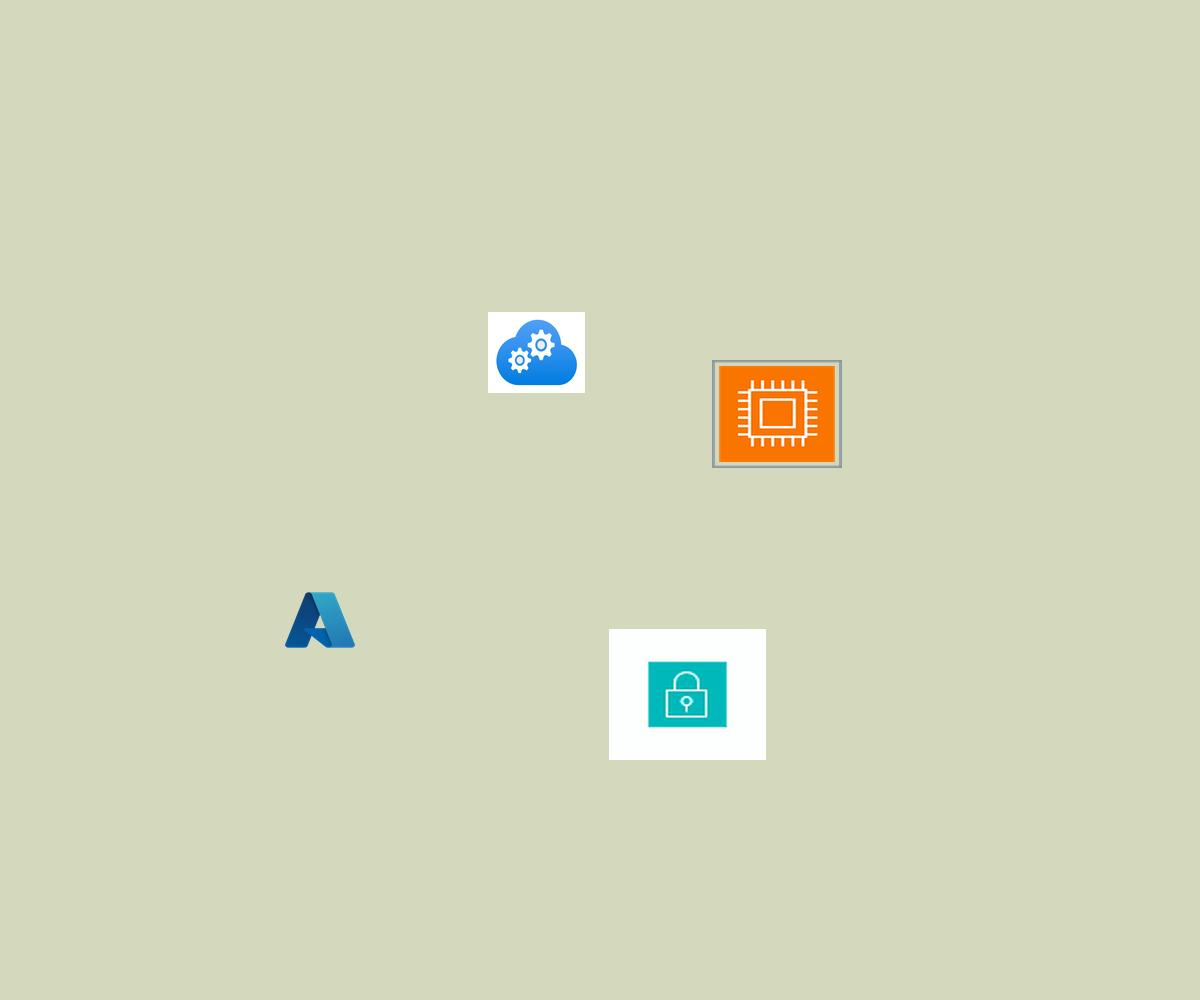AWS-Category_Compute: (712, 360, 842, 468)
AWS-Private-subnet: (609, 629, 766, 760)
Azure_cloud_services: (488, 312, 585, 393)
Azure_services: (282, 588, 358, 652)
